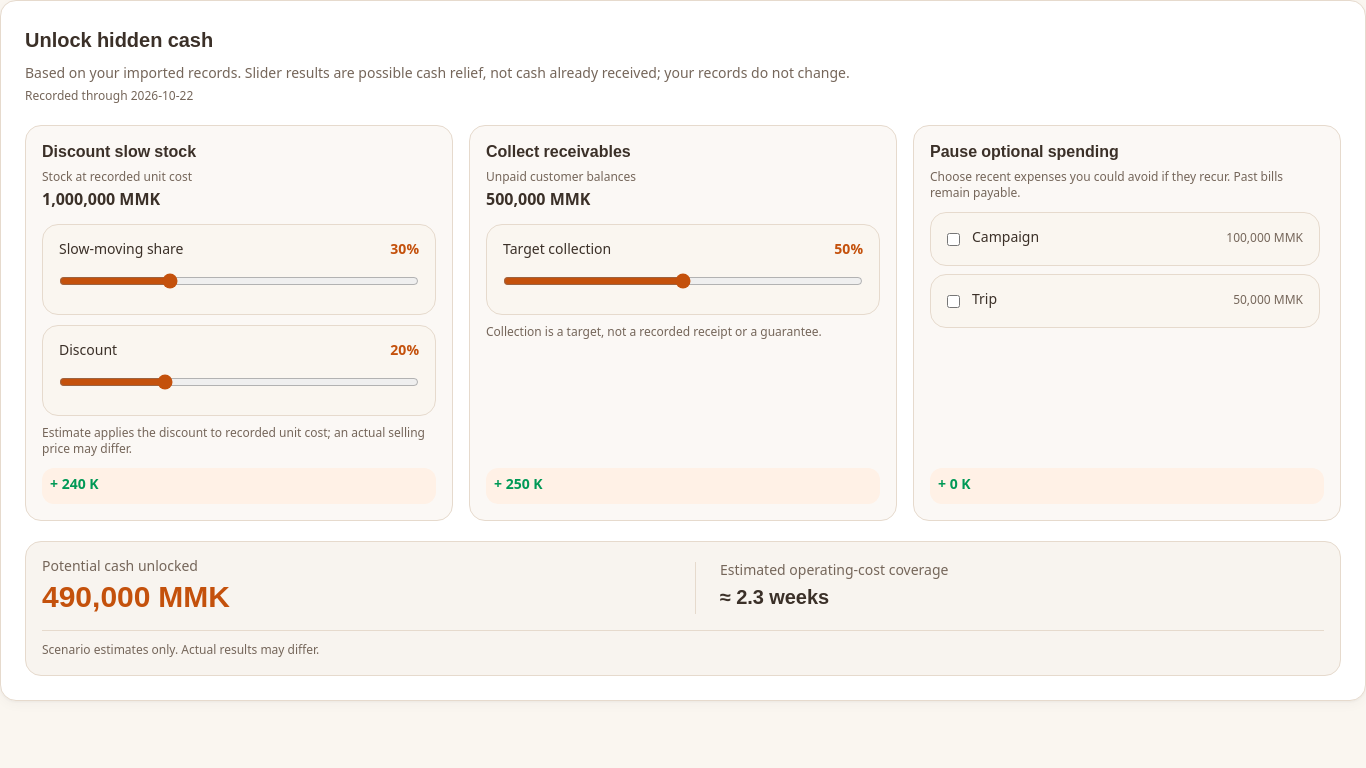
Test: UnlockCashSimulator › updates all three projections and coverage immediately without action buttons
The image size is (1366, 768).
Expected: the text "+ 240 K" is shown, [42, 468, 436, 504]
Expected: the text "+ 250 K" is shown, [486, 468, 880, 504]
Set the slider labelled "Discount 20%" to "30": {"x": 214, "y": 382} [59, 374, 419, 390]
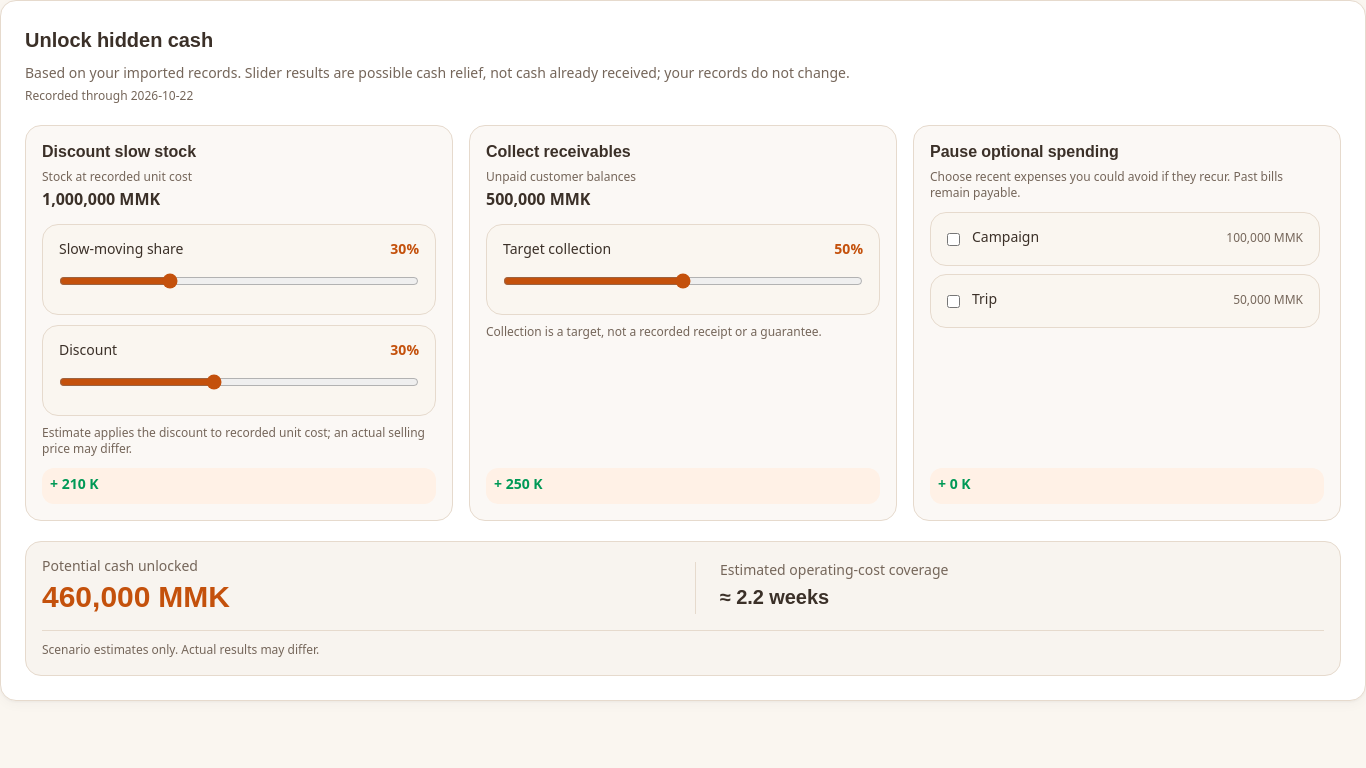
Result: the text "+ 210 K" is shown at [42, 468, 436, 504]
Set the slider labelled "Discount 30%" to "20": {"x": 165, "y": 382} [59, 374, 419, 390]
Set the slider labelled "Slow-moving share 30%" to "50": {"x": 239, "y": 281} [59, 273, 419, 289]
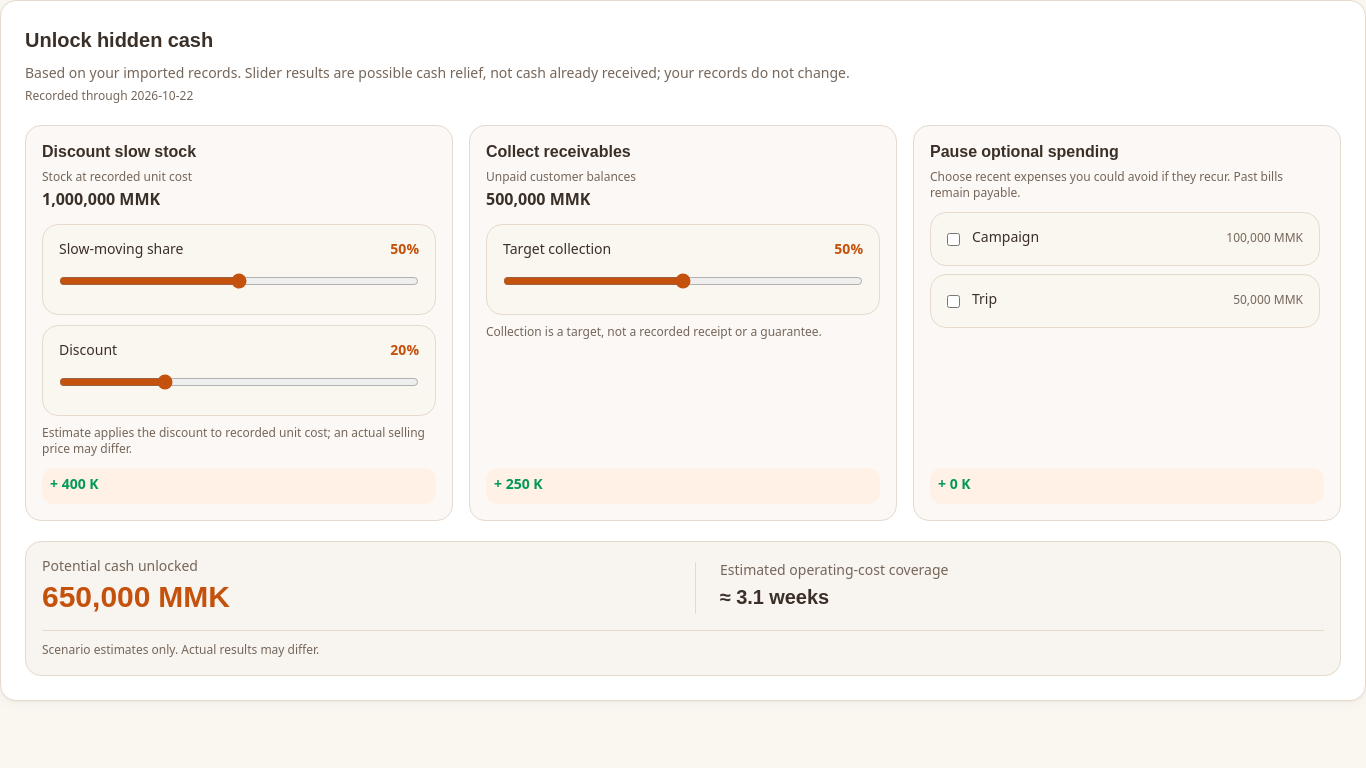
Set the slider labelled "Target collection 50%" to "80": {"x": 786, "y": 281} [503, 273, 863, 289]
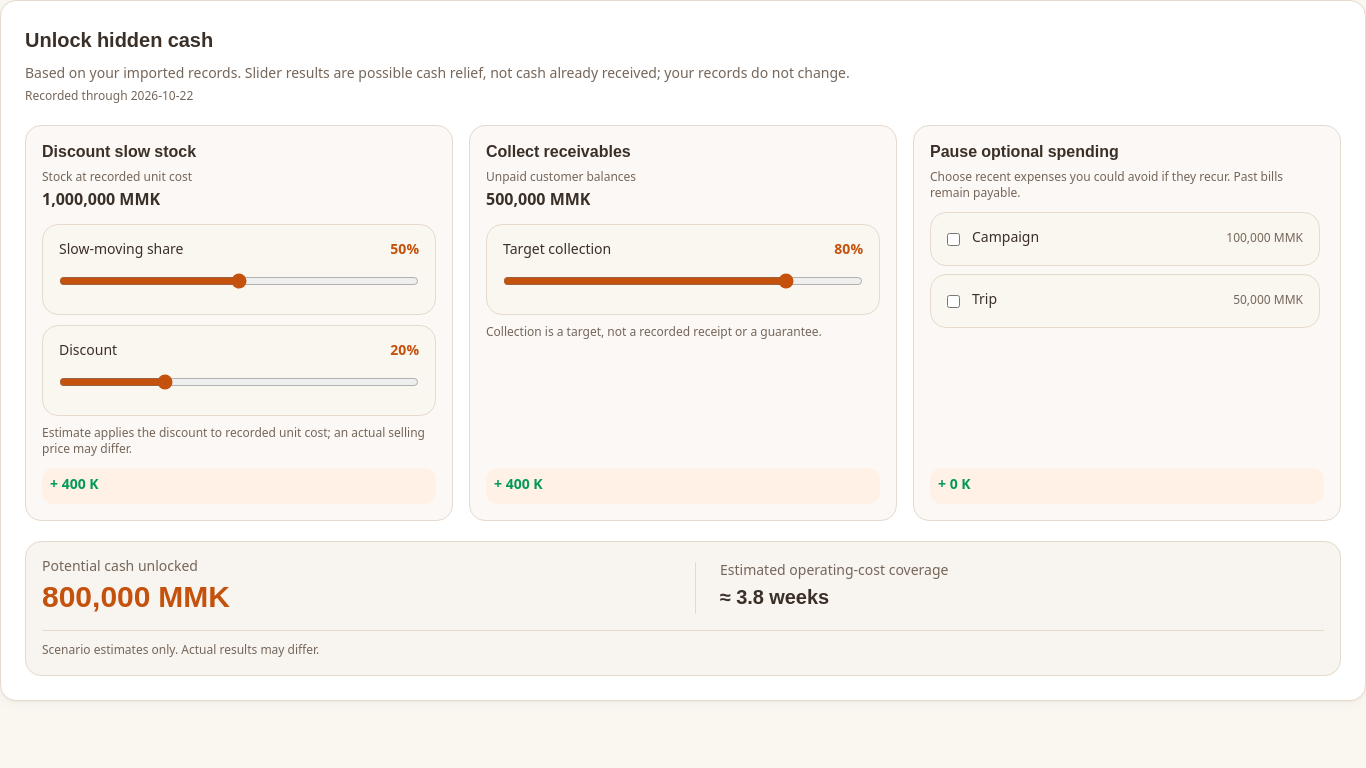
Click the checkbox labelled "Campaign 100,000 MMK": {"x": 954, "y": 239} [947, 232, 960, 246]
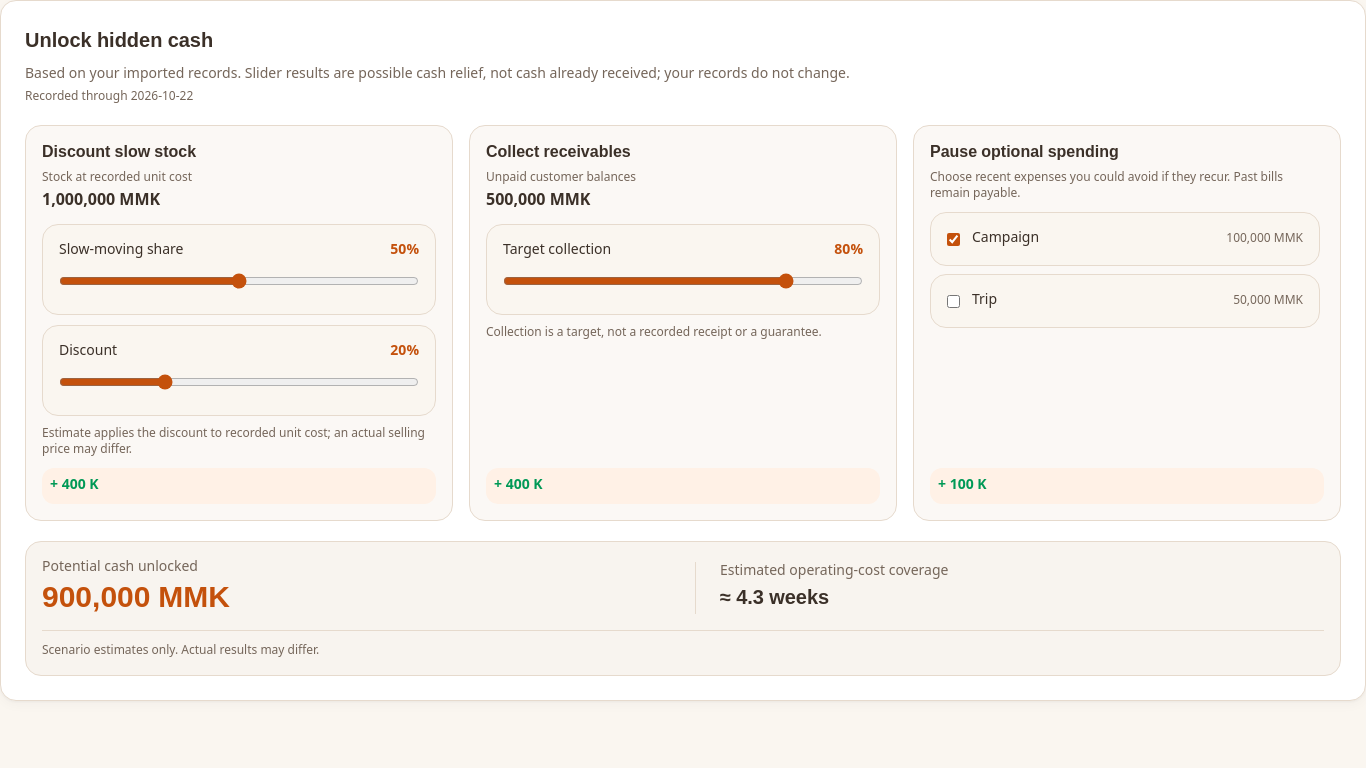
Result: the text "+ 100 K" is shown at [930, 468, 1324, 504]
Result: the text "900,000 MMK" is shown at [42, 567, 230, 633]
Result: the text "≈ 4.3 weeks" is shown at [720, 578, 829, 621]
Click the checkbox labelled "Trip 50,000 MMK": {"x": 954, "y": 301} [947, 294, 960, 308]
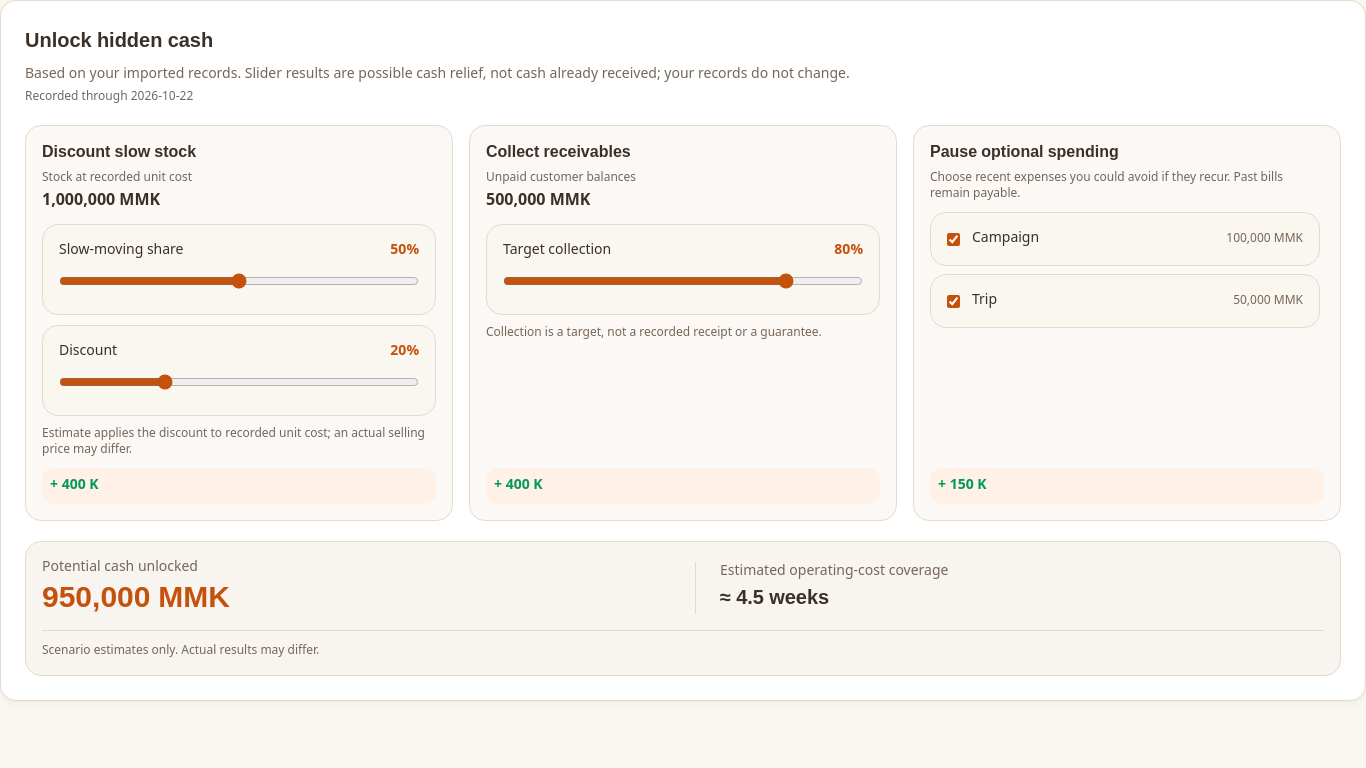
Result: the text "+ 150 K" is shown at [930, 468, 1324, 504]
Result: the text "950,000 MMK" is shown at [42, 567, 230, 633]
Click the checkbox labelled "Campaign 100,000 MMK": {"x": 954, "y": 239} [947, 232, 960, 246]
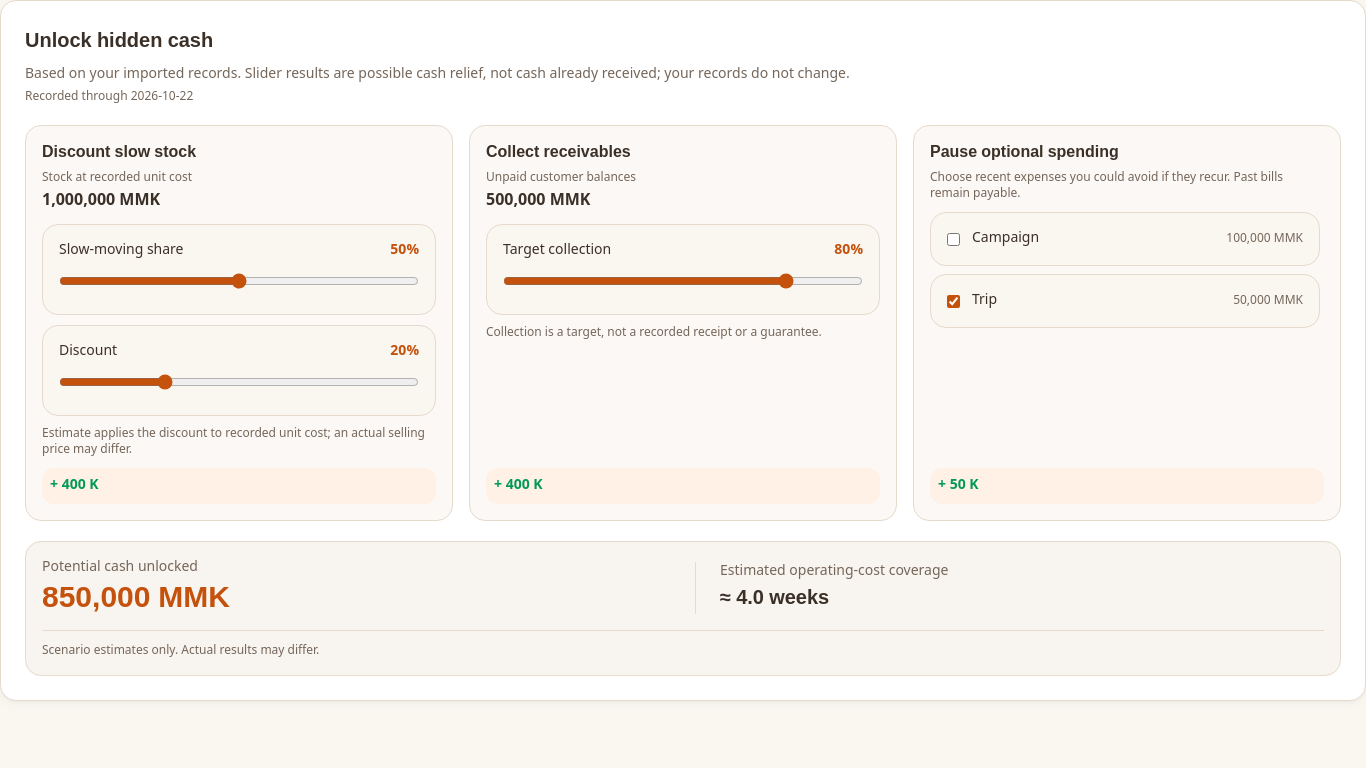
Result: the text "850,000 MMK" is shown at [42, 567, 230, 633]
